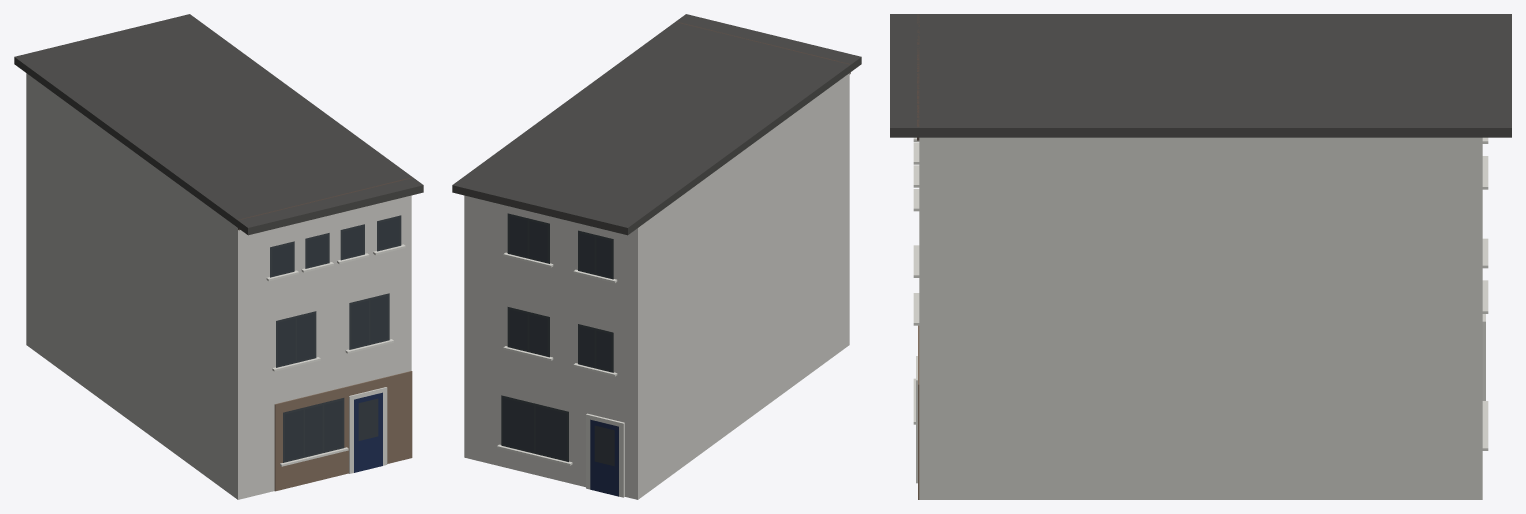
The model's file is nw-nsn-white__white__3__flat__long__solid__f1d0__mirror.glb.
3 views of the same model, side by side, from view 1: azimuth 30°, elevation 25°; view 2: azimuth 150°, elevation 25°; view 3: azimuth 270°, elevation 25° (orthographic). The views are drawn at different scales.
Parts seen in each view (by area): view 1: nw-nsn-white__white__3__flat__long__solid__f1d0__mirror; view 2: nw-nsn-white__white__3__flat__long__solid__f1d0__mirror; view 3: nw-nsn-white__white__3__flat__long__solid__f1d0__mirror.
Boxes of the visible parts, bbox=[...] form: nw-nsn-white__white__3__flat__long__solid__f1d0__mirror: bbox=[14, 14, 423, 499]; nw-nsn-white__white__3__flat__long__solid__f1d0__mirror: bbox=[452, 14, 861, 499]; nw-nsn-white__white__3__flat__long__solid__f1d0__mirror: bbox=[890, 14, 1511, 499].
Bounding box in the file's own units: 5.51 × 8.4 × 12.7.
